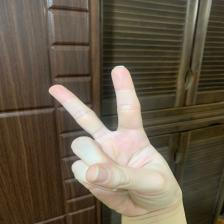two: (45, 65, 182, 212)
